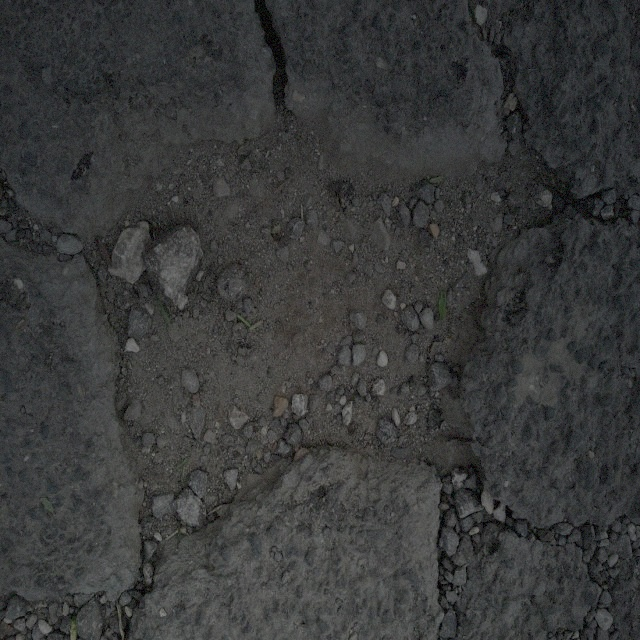pothole: (79, 92, 574, 558)
